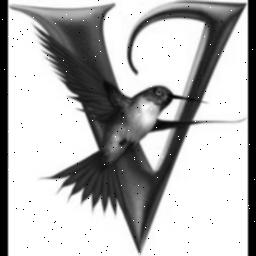v: (8, 0, 248, 256)
